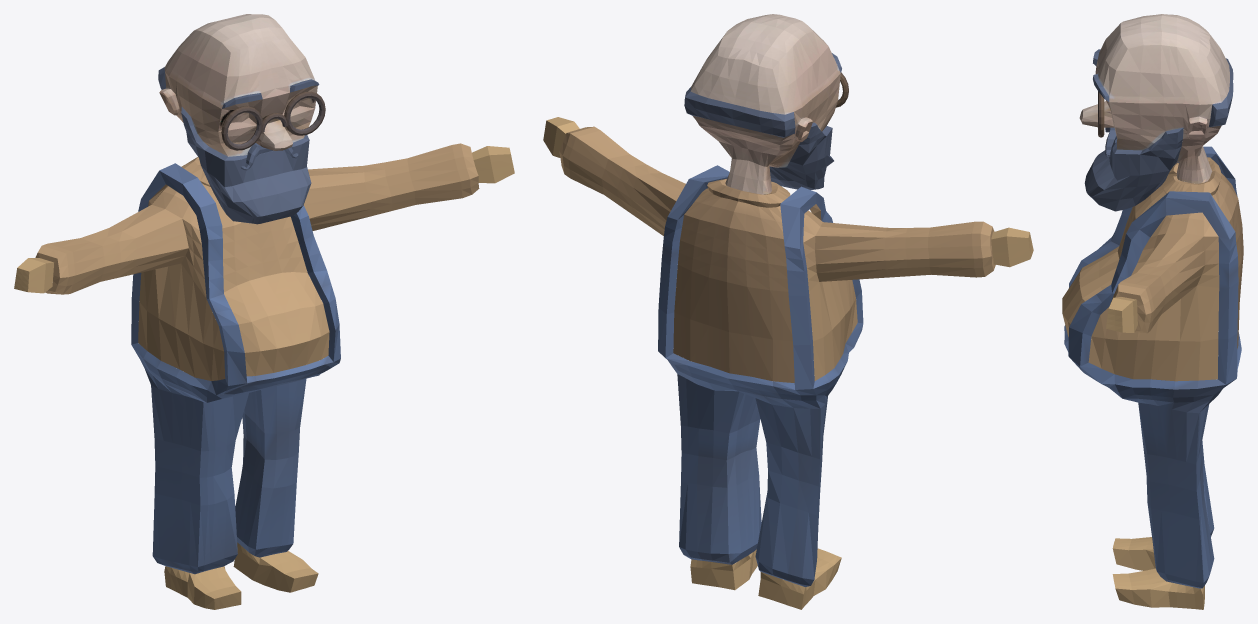
3 views of the same model, side by side, from view 1: azimuth 30°, elevation 25°; view 2: azimuth 150°, elevation 25°; view 3: azimuth 270°, elevation 25° (orthographic). The views are drawn at different scales.
Visible parts, largest first — view 1: mvadapter_node_0165_e380388700664db9ba18d40612baacd0; view 2: mvadapter_node_0165_e380388700664db9ba18d40612baacd0; view 3: mvadapter_node_0165_e380388700664db9ba18d40612baacd0.
Part boxes in pixels (x1=…): mvadapter_node_0165_e380388700664db9ba18d40612baacd0: x1=14, y1=14, x2=514, y2=609; mvadapter_node_0165_e380388700664db9ba18d40612baacd0: x1=543, y1=14, x2=1033, y2=609; mvadapter_node_0165_e380388700664db9ba18d40612baacd0: x1=1062, y1=14, x2=1243, y2=609.
Size of the model in its own units: 0.918 by 1 by 0.2942.
1 material, 1 textured.
